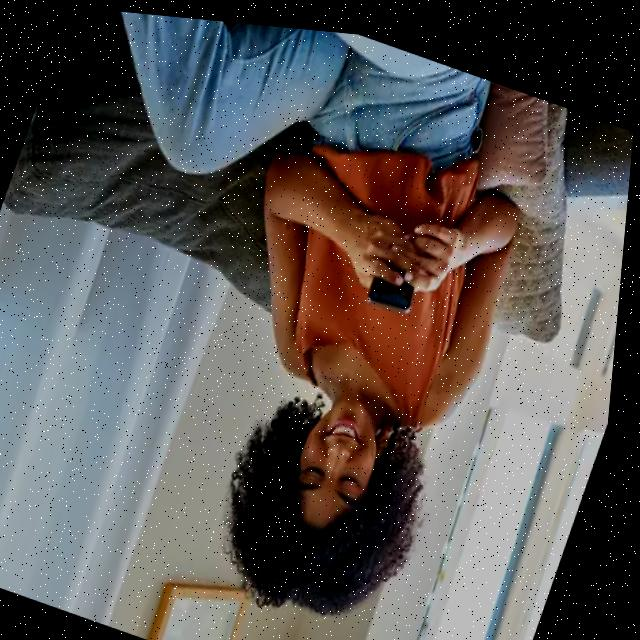smartphone-person: (127, 13, 591, 640)
